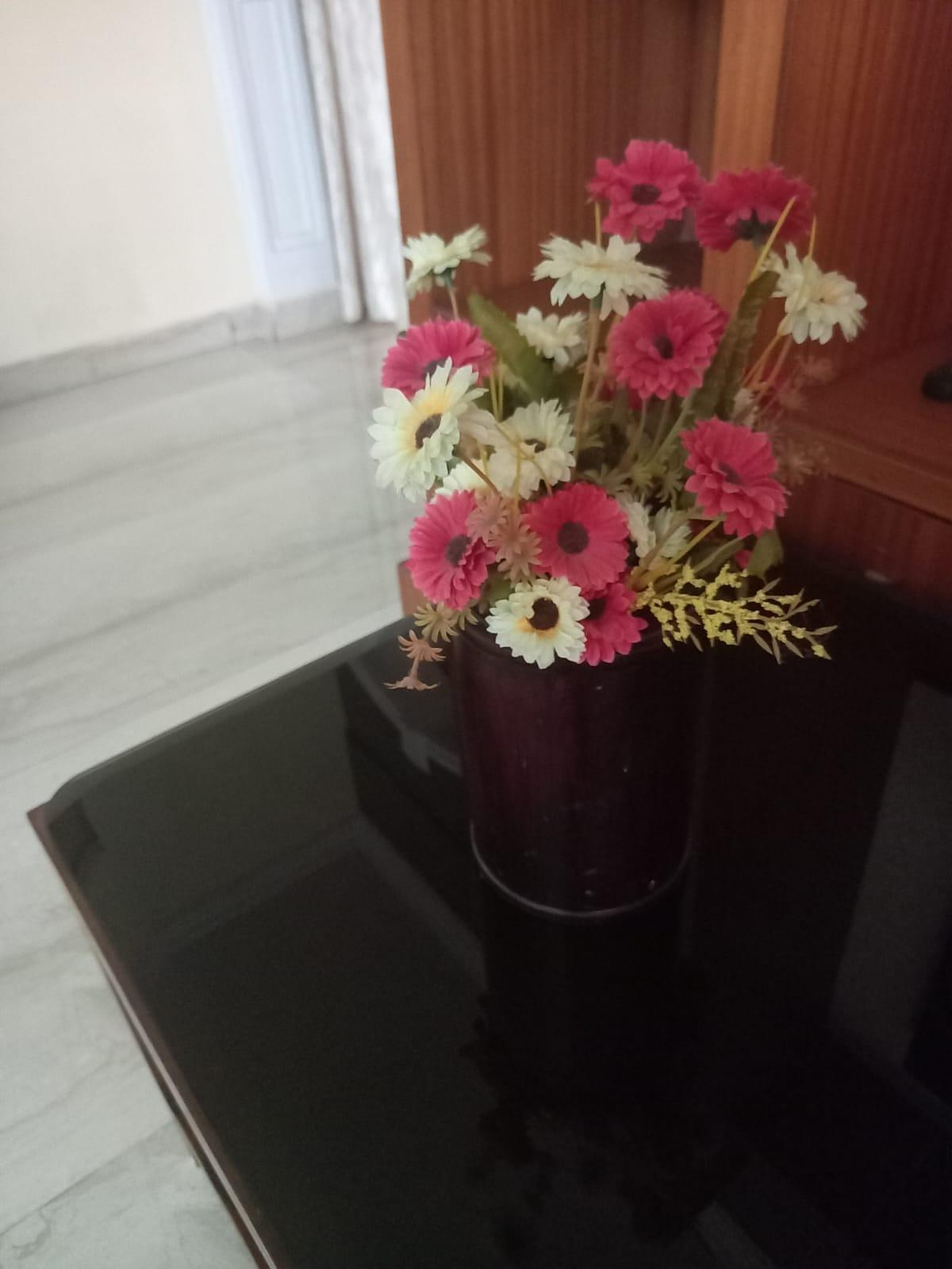vase: (391, 138, 861, 918)
